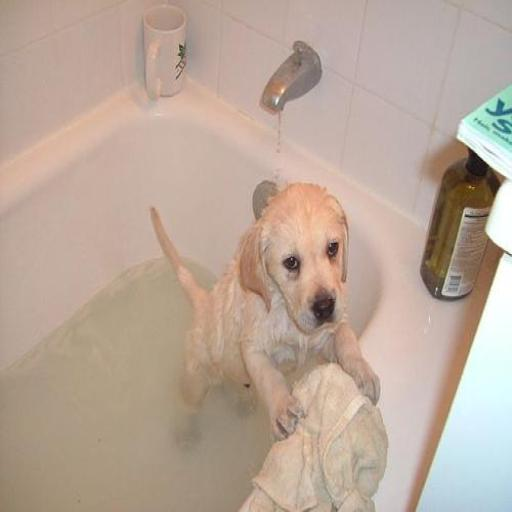dog_face: (250, 188, 353, 335)
